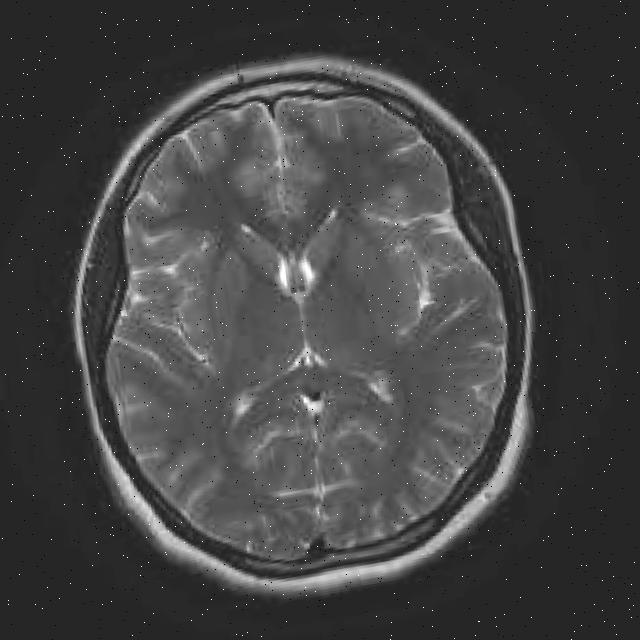NoTumor: (2, 5, 608, 640)
